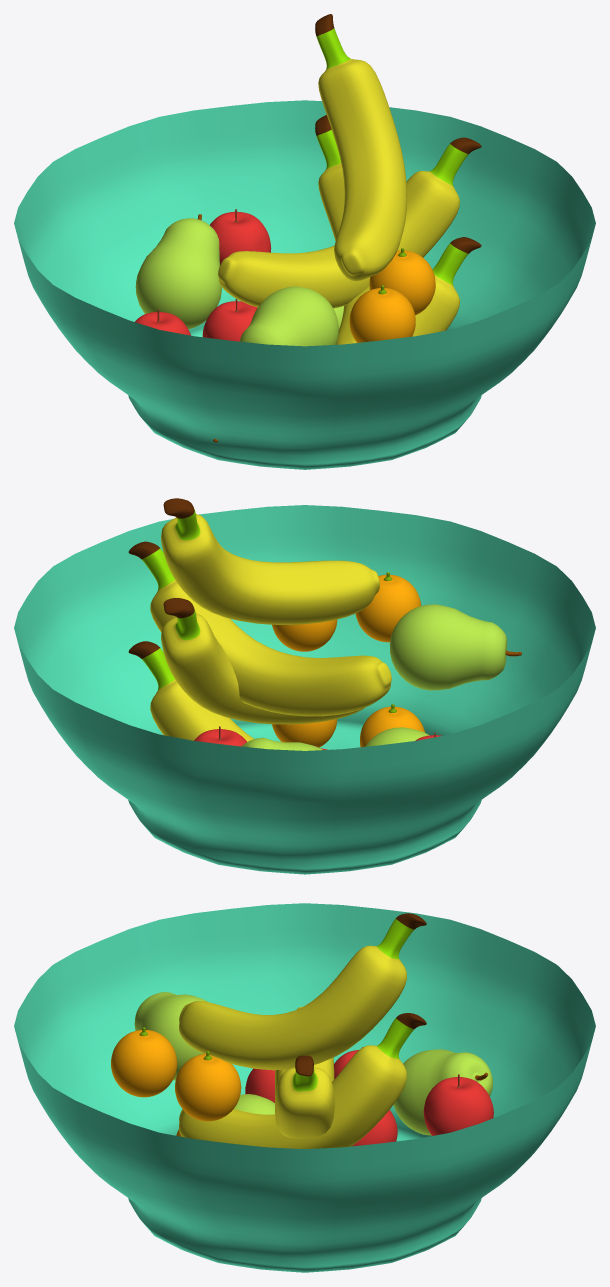
File: Fruit_Bowl.glb
3 renders of one model, top to bottom at view 1: azimuth 30°, elevation 25°; view 2: azimuth 150°, elevation 25°; view 3: azimuth 270°, elevation 25°, orthographic.
Parts seen in each view (by area): view 1: Bowl, Banana.003, Banana.002, Pear.002, Pear.003, Orange.002, Banana, Banana.001, Orange.003, Apple.002, Apple, Apple.001; view 2: Bowl, Banana.003, Banana.002, Pear.003, Banana.001, Banana, Orange.002, Orange.003, Orange, Orange.001, Pear.001, Pear.002 (+1 smaller); view 3: Bowl, Banana.003, Banana.001, Banana.002, Pear.002, Orange.002, Orange.003, Apple.002, Pear.003, Apple, Apple.003, Pear.001.
Part boxes in pixels (<box>): Bowl: <box>14,100,595,469</box>; Banana.003: <box>315,14,407,281</box>; Banana.002: <box>218,137,481,308</box>; Pear.002: <box>135,214,221,329</box>; Pear.003: <box>239,286,338,346</box>; Orange.002: <box>349,285,415,342</box>; Banana: <box>412,237,481,336</box>; Banana.001: <box>315,115,369,344</box>; Orange.003: <box>369,248,435,315</box>; Apple.002: <box>210,209,271,265</box>; Apple: <box>202,299,257,341</box>; Apple.001: <box>135,309,190,335</box>; Bowl: <box>14,505,595,874</box>; Banana.003: <box>161,498,379,624</box>; Banana.002: <box>128,541,391,716</box>; Pear.003: <box>389,604,521,690</box>; Banana.001: <box>161,598,364,724</box>; Banana: <box>128,641,253,741</box>; Orange.002: <box>355,572,421,642</box>; Orange.003: <box>272,619,337,651</box>; Orange: <box>360,704,424,747</box>; Orange.001: <box>272,719,337,747</box>; Pear.001: <box>365,727,429,746</box>; Pear.002: <box>242,737,322,750</box>; Bowl: <box>14,903,595,1272</box>; Banana.003: <box>179,913,426,1070</box>; Banana.001: <box>179,1013,426,1148</box>; Banana.002: <box>275,1006,334,1138</box>; Pear.002: <box>393,1049,492,1135</box>; Orange.002: <box>111,1027,177,1097</box>; Orange.003: <box>175,1051,241,1121</box>; Apple.002: <box>423,1074,493,1135</box>; Pear.003: <box>134,992,208,1080</box>; Apple: <box>352,1110,397,1146</box>; Apple.003: <box>245,1068,275,1102</box>; Pear.001: <box>234,1094,275,1114</box>.
Bounding box in the file's own units: 4.78 × 3.03 × 4.78.
